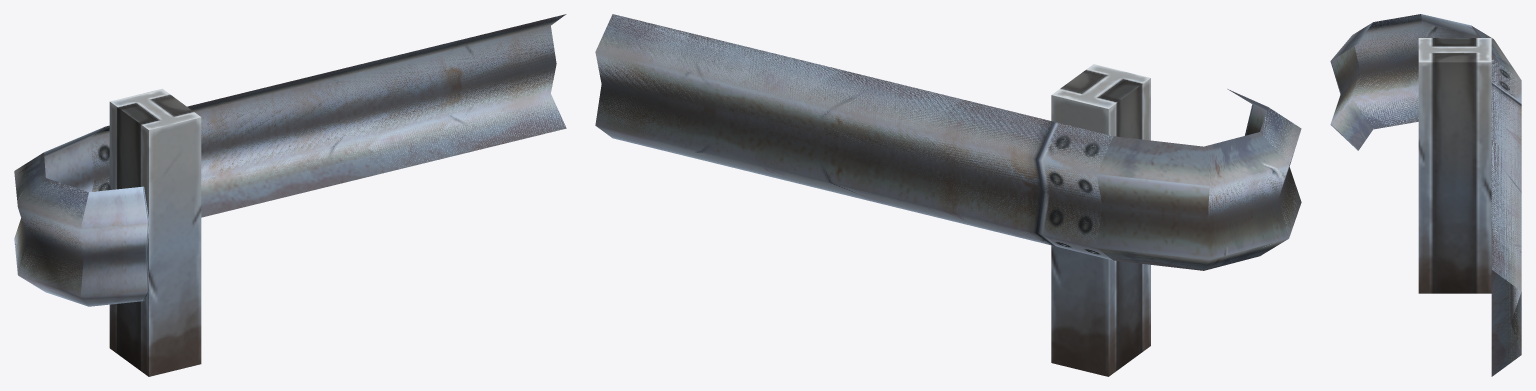
Rendered from guardRail_End02_R.fbx.
3 renders of one model, left to right at view 1: azimuth 30°, elevation 25°; view 2: azimuth 150°, elevation 25°; view 3: azimuth 270°, elevation 25°, orthographic. The views are drawn at different scales.
Parts seen in each view (by area): view 1: guardRail_End02_R; view 2: guardRail_End02_R; view 3: guardRail_End02_R.
Boxes of the visible parts, box(x1,y1,x2,y2) form: guardRail_End02_R: box(14, 14, 566, 376); guardRail_End02_R: box(595, 14, 1301, 376); guardRail_End02_R: box(1330, 14, 1521, 376).
Bounding box in the file's own units: 204 × 82.17 × 61.5.
